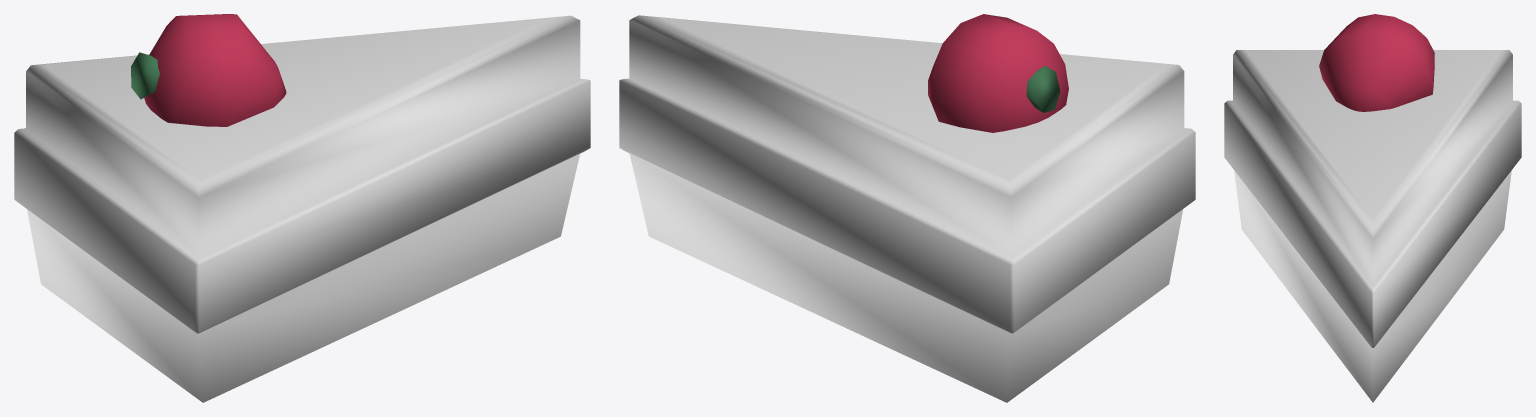
Rendered from LV5_cake_unity.fbx.
3 views of the same model, side by side, from view 1: azimuth 30°, elevation 25°; view 2: azimuth 150°, elevation 25°; view 3: azimuth 270°, elevation 25° (orthographic). The views are drawn at different scales.
Parts seen in each view (by area): view 1: cake, strawberry, strawberry_leaf; view 2: cake, strawberry, strawberry_leaf; view 3: cake, strawberry.
Boxes of the visible parts, bbox=[...] form: cake: bbox=[14, 15, 590, 402]; strawberry: bbox=[144, 14, 286, 126]; strawberry_leaf: bbox=[131, 52, 159, 99]; cake: bbox=[619, 15, 1195, 402]; strawberry: bbox=[928, 14, 1068, 132]; strawberry_leaf: bbox=[1026, 66, 1060, 112]; cake: bbox=[1224, 50, 1521, 402]; strawberry: bbox=[1319, 14, 1434, 111].
Size of the model in its own units: 0.1919 by 0.1133 by 0.1256.
